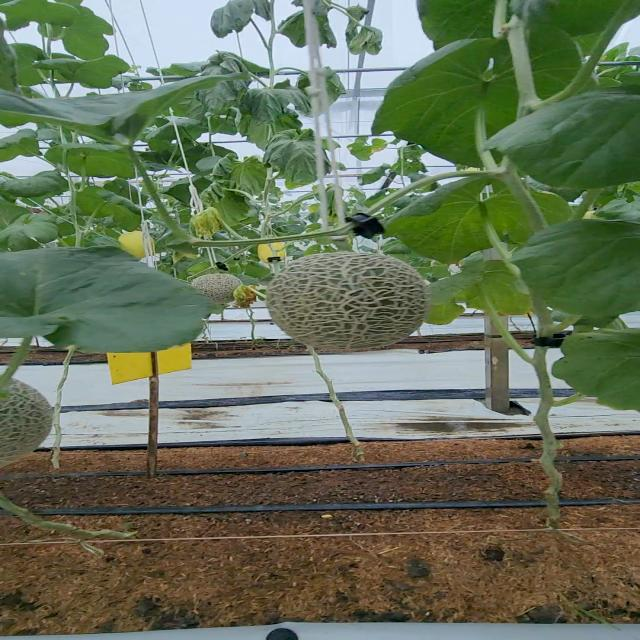Melon: (270, 252, 434, 351), (192, 272, 247, 304)
